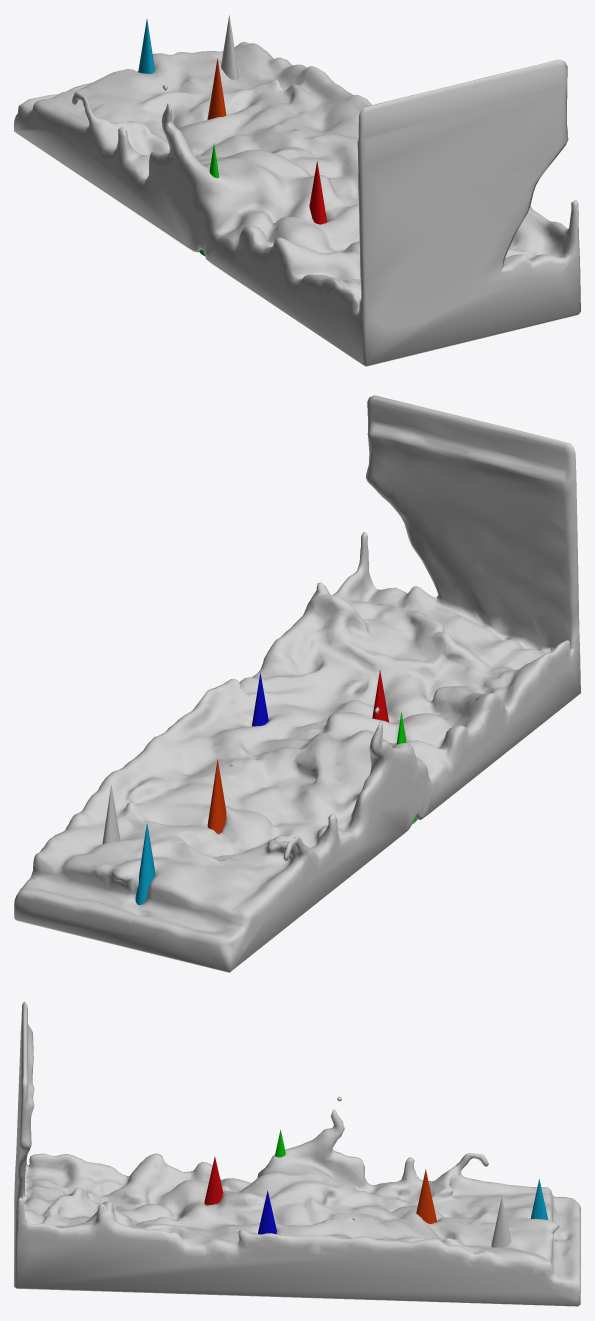
3 views of the same model, one above another, from view 1: azimuth 30°, elevation 25°; view 2: azimuth 150°, elevation 25°; view 3: azimuth 270°, elevation 25° (orthographic). The views are drawn at different scales.
Parts seen in each view (by area): view 1: Liquid_Domain, 円錐, 円錐.001, 円錐.004, 円錐.005; view 2: Liquid_Domain, 円錐.005, 円錐.004; view 3: Liquid_Domain, 円錐.004, 円錐, 円錐.001, 円錐.002.
Part boxes in pixels (bbox=[...]): Liquid_Domain: bbox=[14, 41, 580, 366]; 円錐: bbox=[221, 15, 238, 80]; 円錐.001: bbox=[309, 161, 326, 224]; 円錐.004: bbox=[207, 58, 226, 119]; 円錐.005: bbox=[138, 18, 154, 73]; Liquid_Domain: bbox=[14, 395, 580, 972]; 円錐.005: bbox=[135, 822, 155, 904]; 円錐.004: bbox=[207, 759, 226, 833]; Liquid_Domain: bbox=[14, 1001, 580, 1306]; 円錐.004: bbox=[416, 1169, 436, 1223]; 円錐: bbox=[491, 1197, 511, 1247]; 円錐.001: bbox=[204, 1156, 223, 1205]; 円錐.002: bbox=[258, 1191, 276, 1234].
Bounding box in the file's own units: 129 × 158 × 361.
